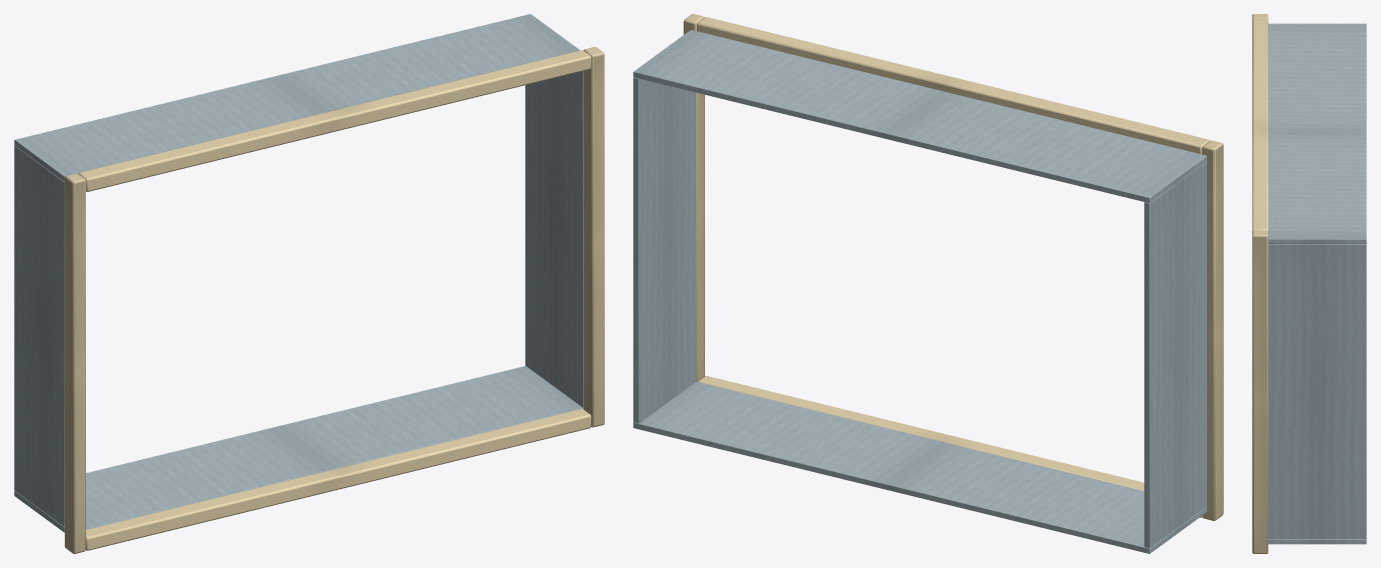
File: 30-front-open-long-window--52.fbx
3 views of the same model, side by side, from view 1: azimuth 30°, elevation 25°; view 2: azimuth 150°, elevation 25°; view 3: azimuth 270°, elevation 25° (orthographic). The views are drawn at different scales.
Visible parts, largest first — view 1: front-open-long-window--52; view 2: front-open-long-window--52; view 3: front-open-long-window--52.
Part boxes in pixels (x1,y1,x2,y2): front-open-long-window--52: (14,14,604,553); front-open-long-window--52: (633,14,1223,553); front-open-long-window--52: (1252,14,1366,553).
Size of the model in its own units: 4840 by 3240 by 1055.
Materials: 1 (1 with a texture image).
